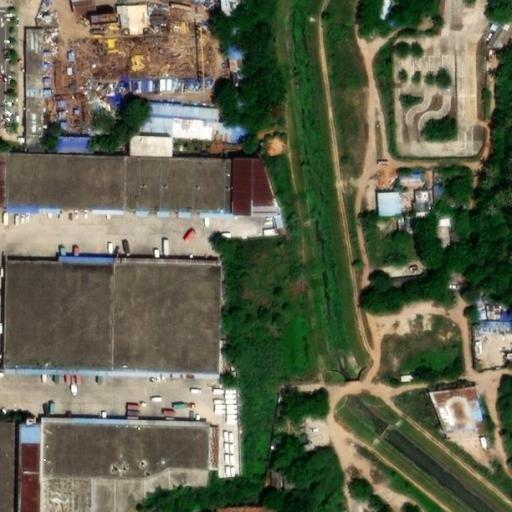building: (117, 259, 229, 381), (4, 265, 117, 381), (59, 426, 219, 484), (132, 160, 242, 221), (13, 160, 132, 214), (59, 484, 175, 512), (240, 167, 291, 228), (26, 426, 59, 512), (25, 34, 42, 156), (42, 132, 93, 156), (116, 5, 150, 39), (184, 124, 237, 145), (135, 120, 184, 141), (134, 102, 185, 122), (234, 96, 256, 139), (132, 139, 176, 160), (184, 108, 225, 126), (224, 12, 244, 46), (379, 192, 400, 219), (95, 0, 144, 9), (210, 505, 272, 512), (204, 144, 232, 157), (229, 45, 247, 65), (486, 308, 507, 324), (414, 190, 430, 210), (98, 27, 117, 40), (96, 17, 117, 28), (439, 411, 451, 430), (179, 143, 198, 154), (481, 324, 512, 330), (472, 411, 485, 425), (431, 218, 449, 228), (232, 65, 245, 78), (476, 308, 486, 324), (430, 393, 440, 409), (397, 180, 420, 186), (448, 212, 457, 227), (482, 381, 495, 391), (407, 186, 415, 201), (447, 172, 462, 180), (474, 328, 481, 339), (412, 173, 420, 181), (420, 173, 425, 183)
